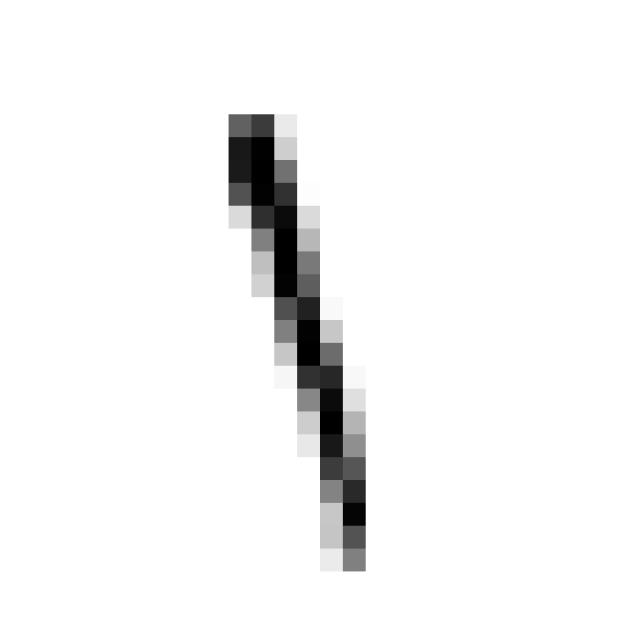1 -one-: (206, 94, 385, 584)
